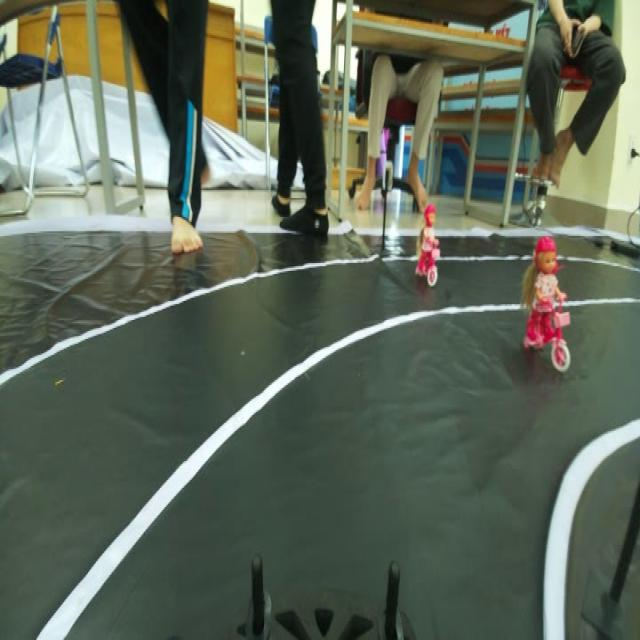pedestrian: (523, 213, 580, 383), (414, 198, 446, 282)
